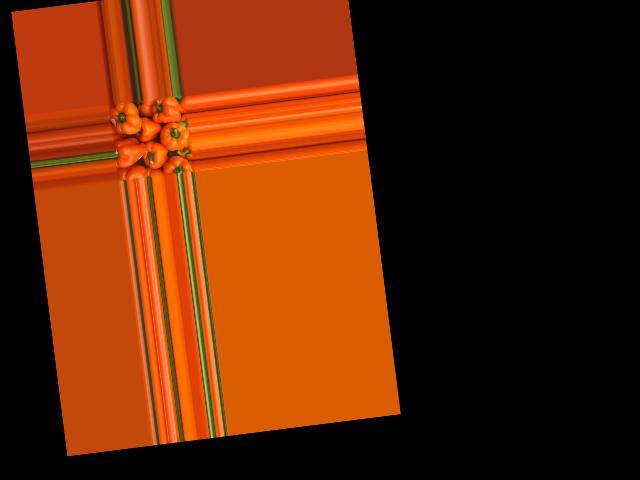bell_pepper: (115, 164, 147, 180)
